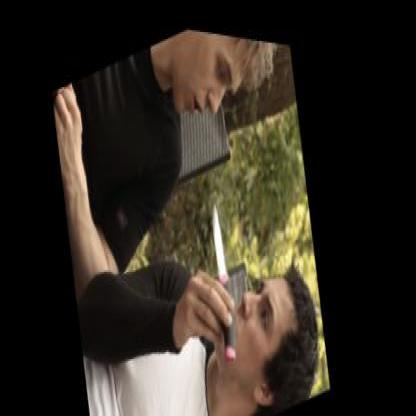knife: (187, 178, 263, 373)
